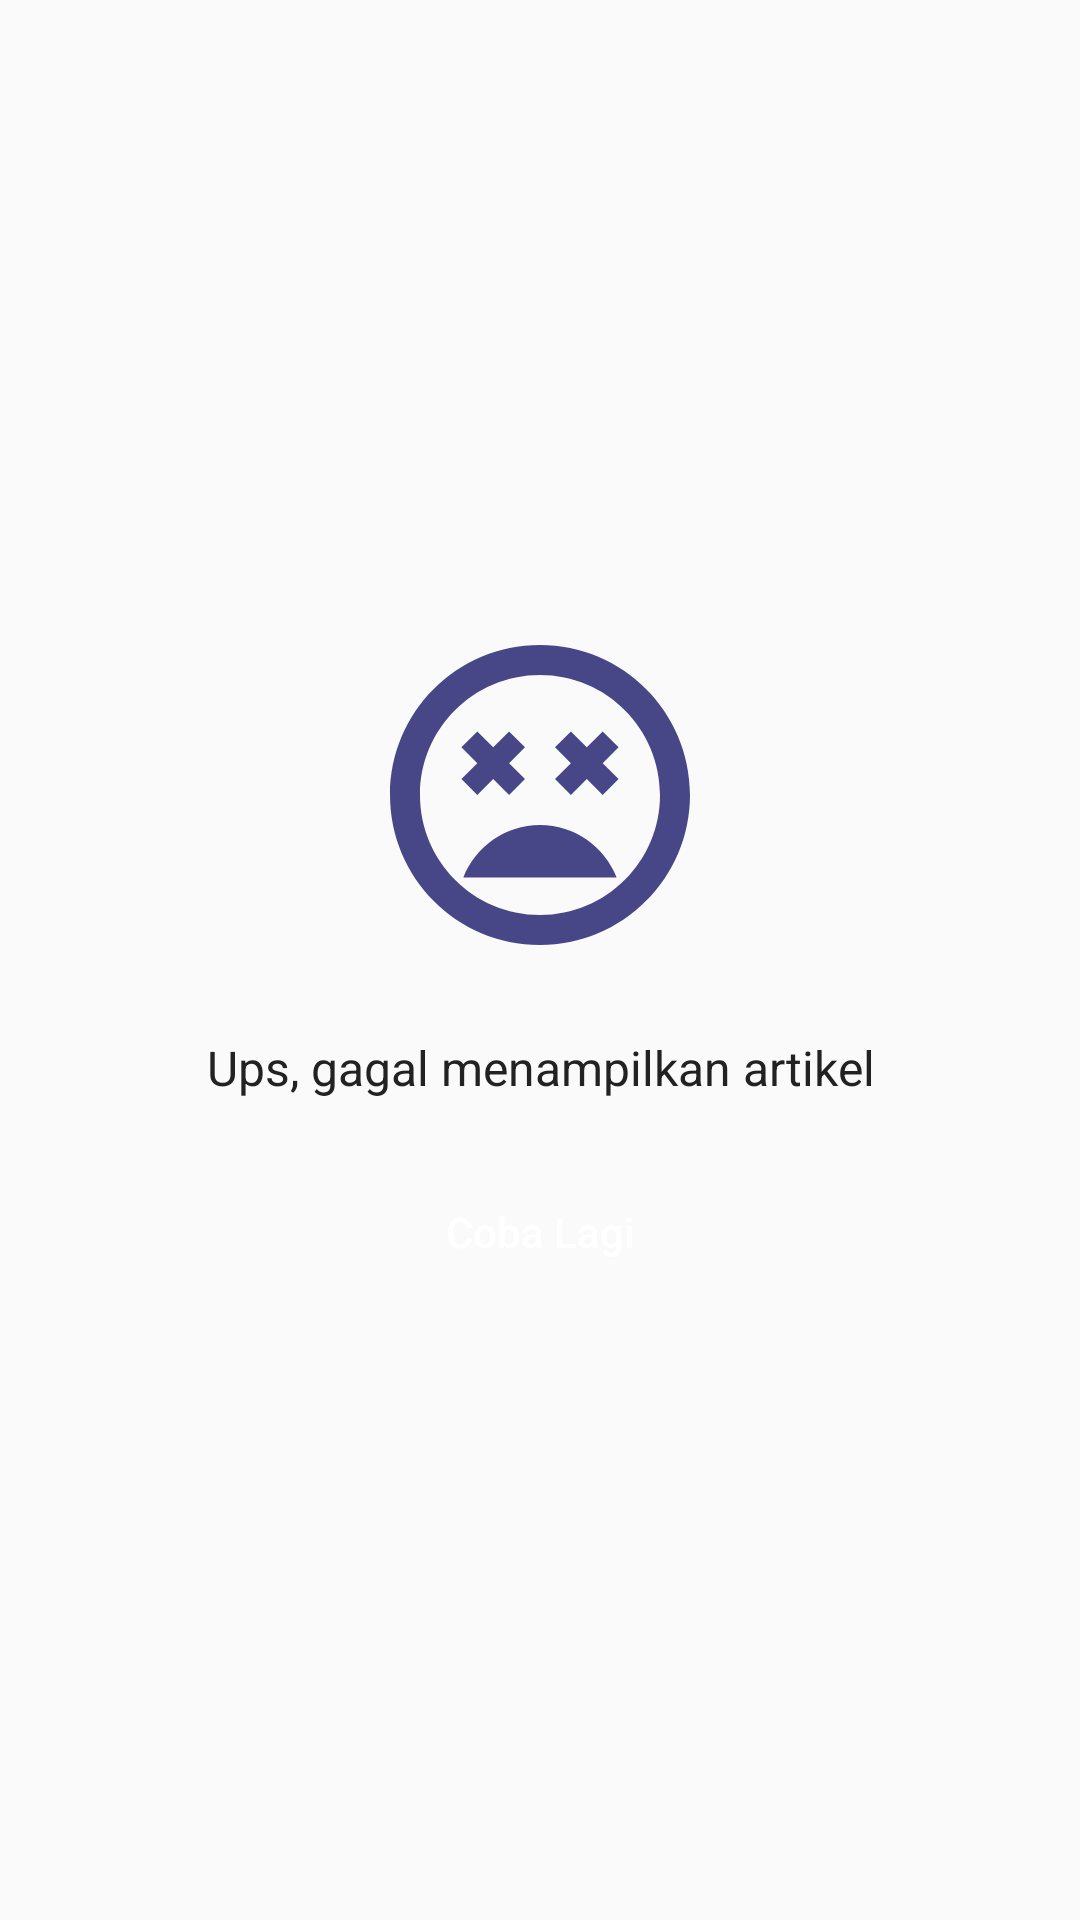

Point at icon controls on the screen. Image size 1080px x 1920px, points as (x,y).
failed state: (540,795)
